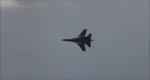maybay_muctieu: (63, 28, 93, 51)
